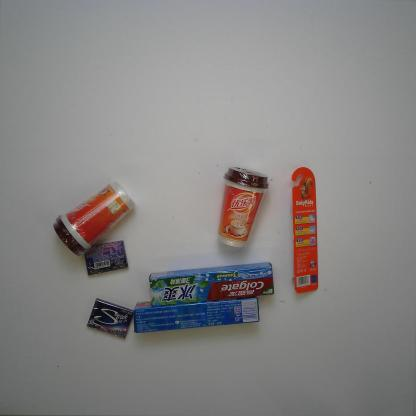Gum: (84, 297, 136, 341), (82, 240, 130, 276)
Instant Drink: (51, 180, 136, 259), (213, 164, 271, 250)
Personal Hygiene: (148, 261, 275, 309), (133, 297, 262, 337), (288, 166, 320, 296)
